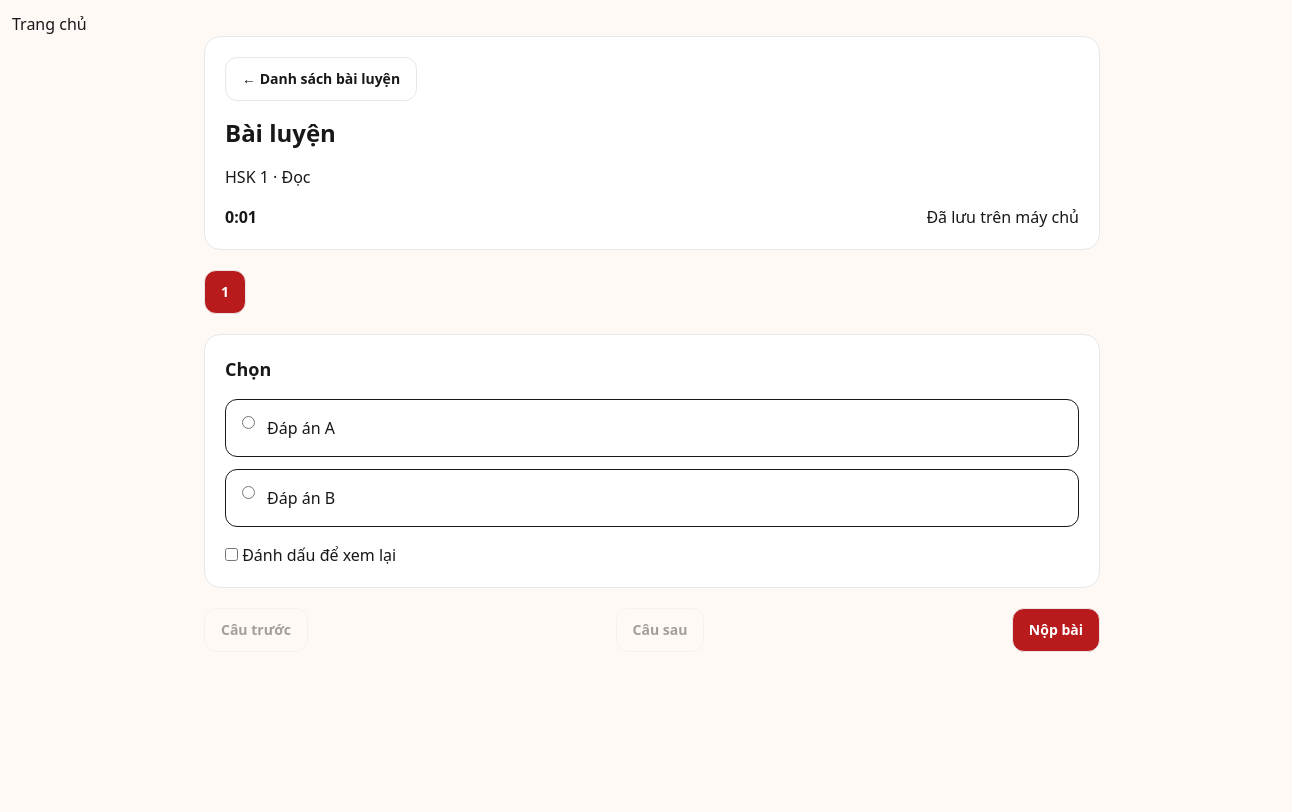
Test case: saves choice answers selected 500ms before expiry
Click the radio button labelled "Đáp án A" at (248, 422), box [242, 416, 255, 429]
Wait 500 ms
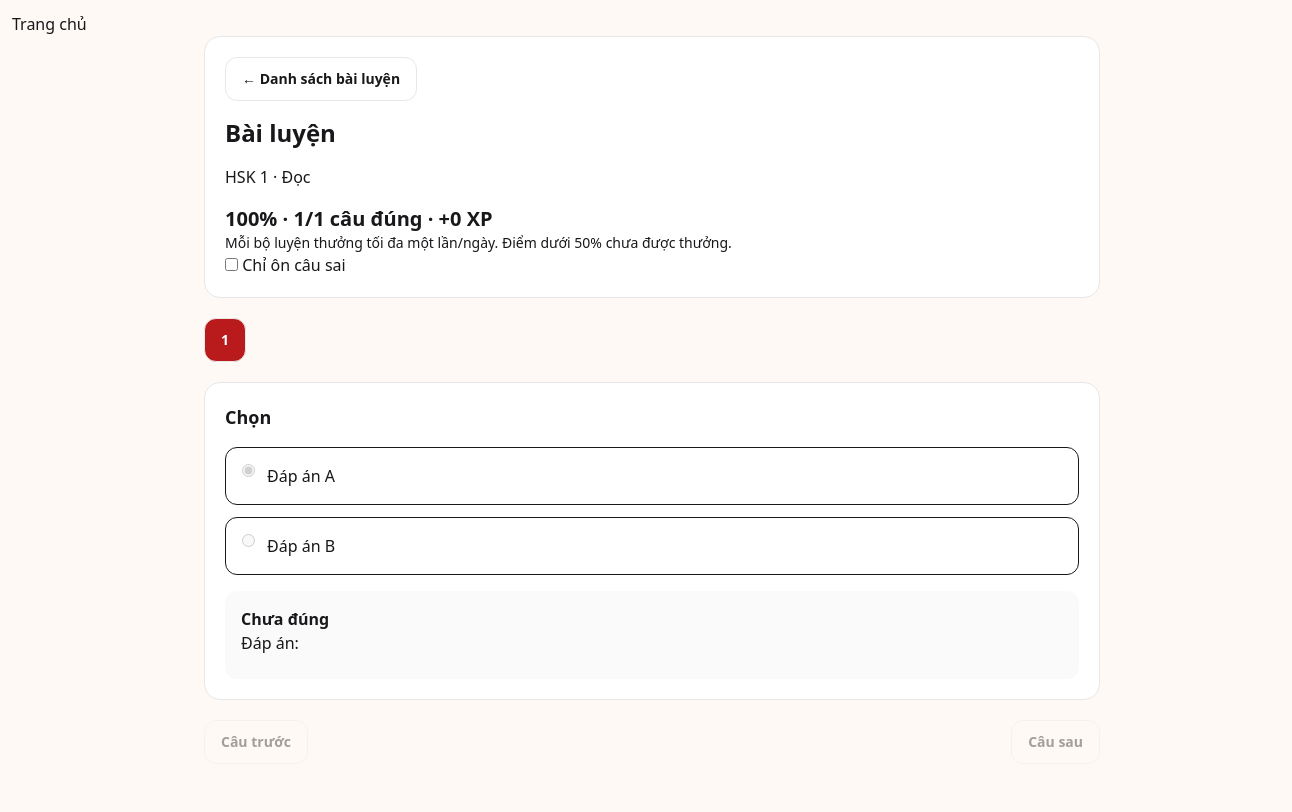
expect the text "100% · 1/1 câu đúng · +0 XP" is shown: met, box [225, 205, 493, 232]
